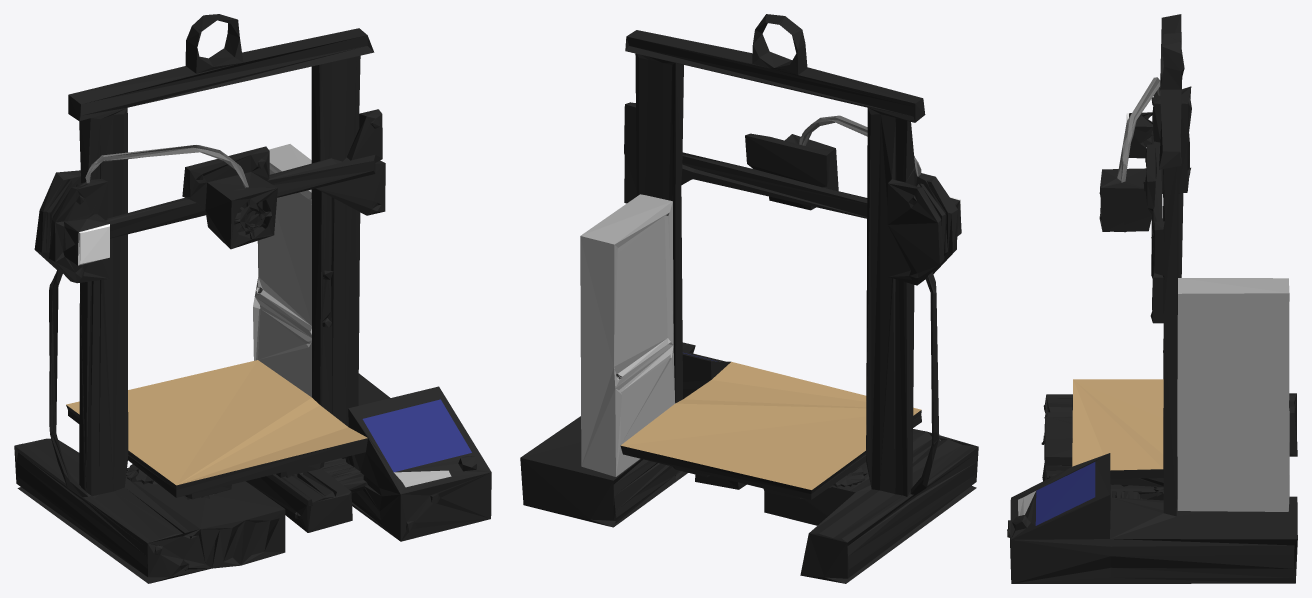
Rendered from printer3D.glb.
The picture shows the model from 3 angles, left to right: view 1: azimuth 30°, elevation 25°; view 2: azimuth 150°, elevation 25°; view 3: azimuth 270°, elevation 25°; orthographic projection. The views are drawn at different scales.
Parts seen in each view (by area): view 1: printer3D; view 2: printer3D; view 3: printer3D.
Boxes of the visible parts, <box> form: printer3D: <box>14,14,491,583</box>; printer3D: <box>520,14,978,583</box>; printer3D: <box>1007,14,1297,583</box>.
Bounding box in the file's own units: 20.06 × 25.72 × 14.66.
1 material, 1 textured.
